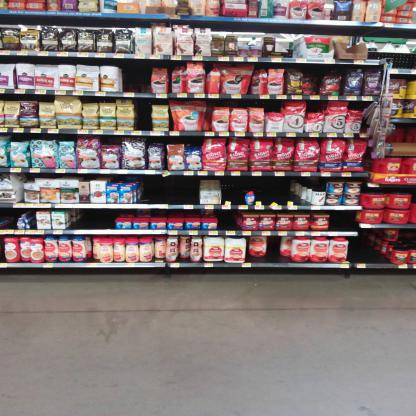Void: (146, 178, 196, 204), (257, 176, 299, 203), (122, 62, 150, 94), (76, 211, 115, 228), (355, 238, 376, 261), (222, 176, 240, 202), (332, 210, 355, 229), (136, 101, 150, 131), (0, 211, 17, 226), (394, 55, 416, 66), (220, 214, 235, 228), (270, 238, 278, 261)
